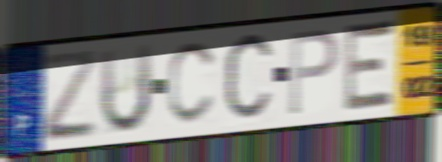C: (221, 27, 277, 130), (166, 38, 220, 129)
E: (341, 16, 398, 116)
P: (287, 27, 341, 119)
U: (97, 40, 155, 138)
Z: (41, 46, 99, 145)
